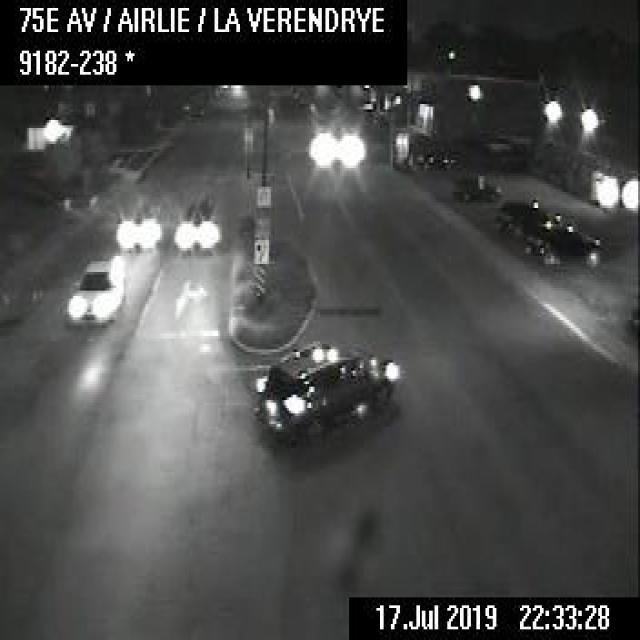vehicle: (249, 336, 398, 443), (64, 253, 125, 328), (536, 218, 601, 272), (306, 123, 368, 170), (175, 194, 220, 250), (113, 202, 160, 250), (454, 172, 501, 202)
